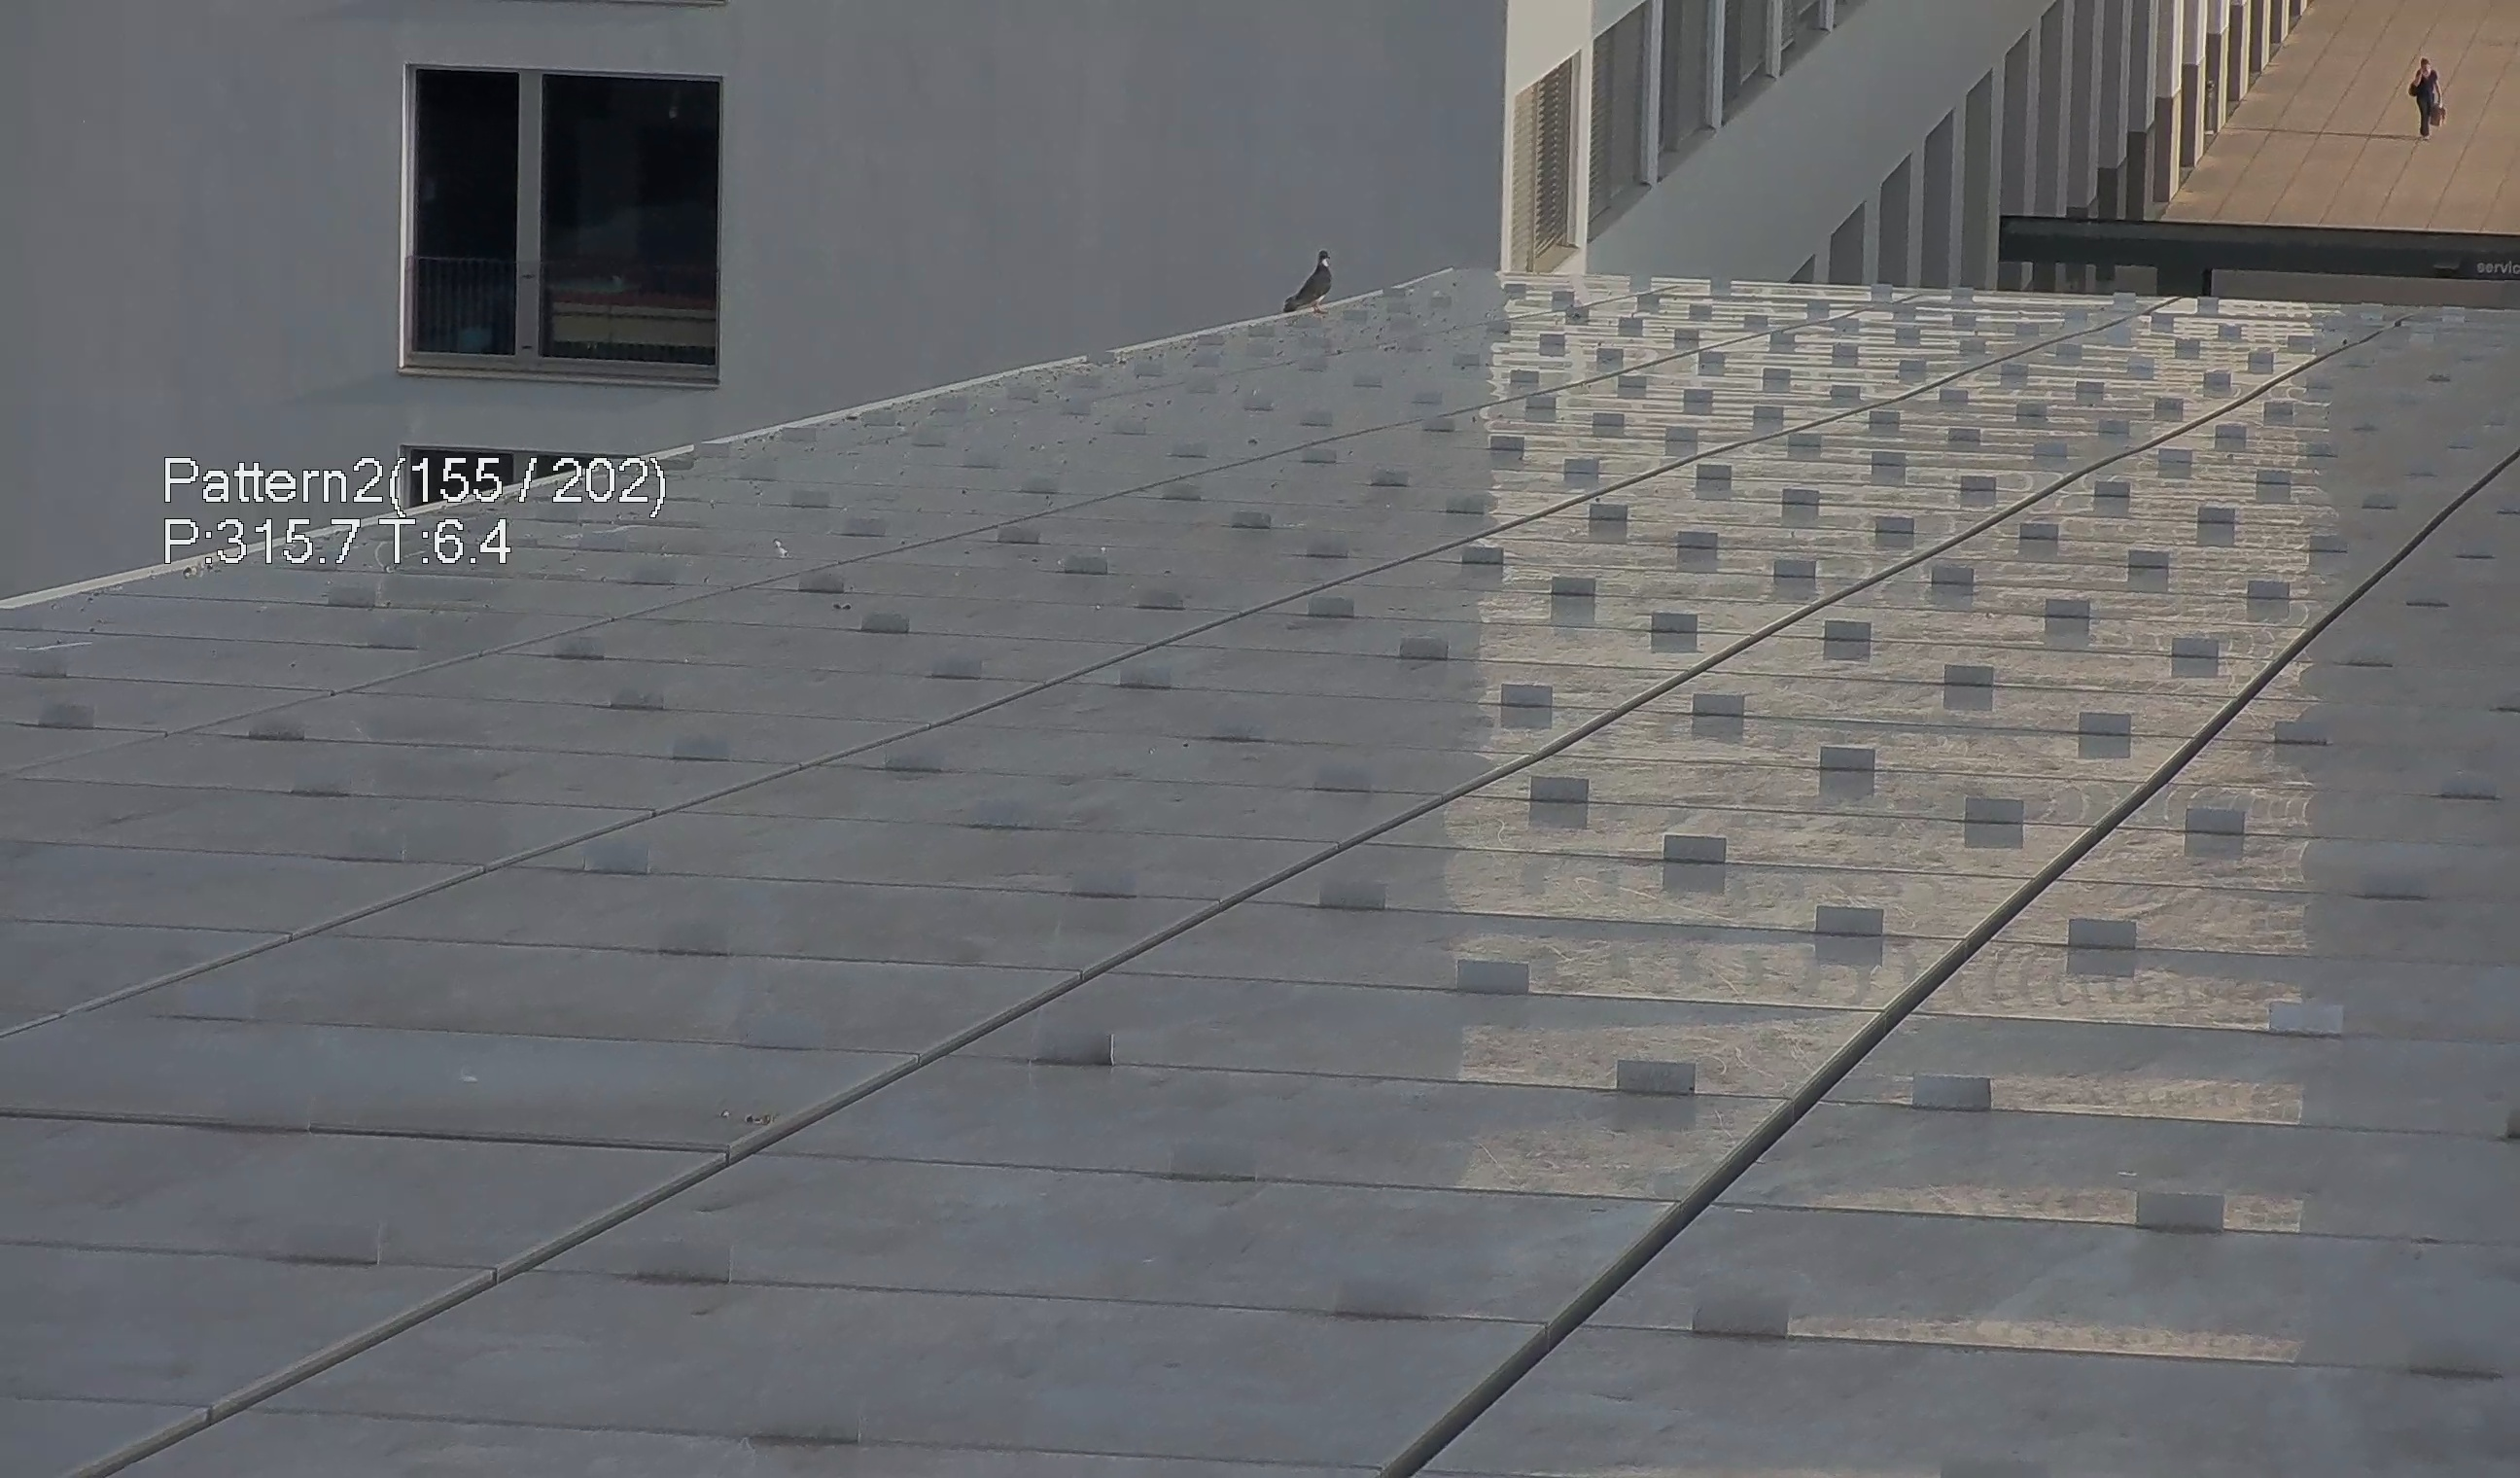Pigeon: (1275, 236, 1335, 315)
